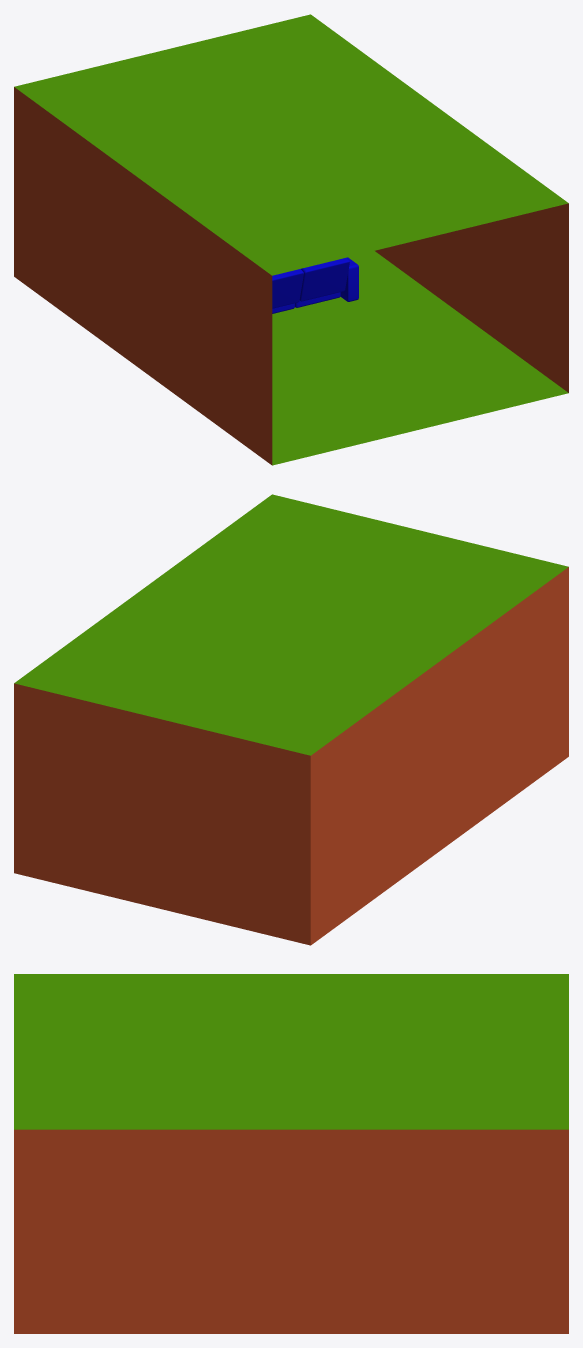
Rendered from Scenery_exit.fbx.
3 views of the same model, one above another, from view 1: azimuth 30°, elevation 25°; view 2: azimuth 150°, elevation 25°; view 3: azimuth 270°, elevation 25° (orthographic). The views are drawn at different scales.
Visible parts, largest first — view 1: Model; view 2: Model; view 3: Model.
Part boxes in pixels (left/top/right/bottom): Model: left=14, top=14, right=568, bottom=465; Model: left=14, top=494, right=568, bottom=945; Model: left=14, top=974, right=568, bottom=1333.
Bounding box in the file's own units: 4.51 × 2.76 × 6.8.
